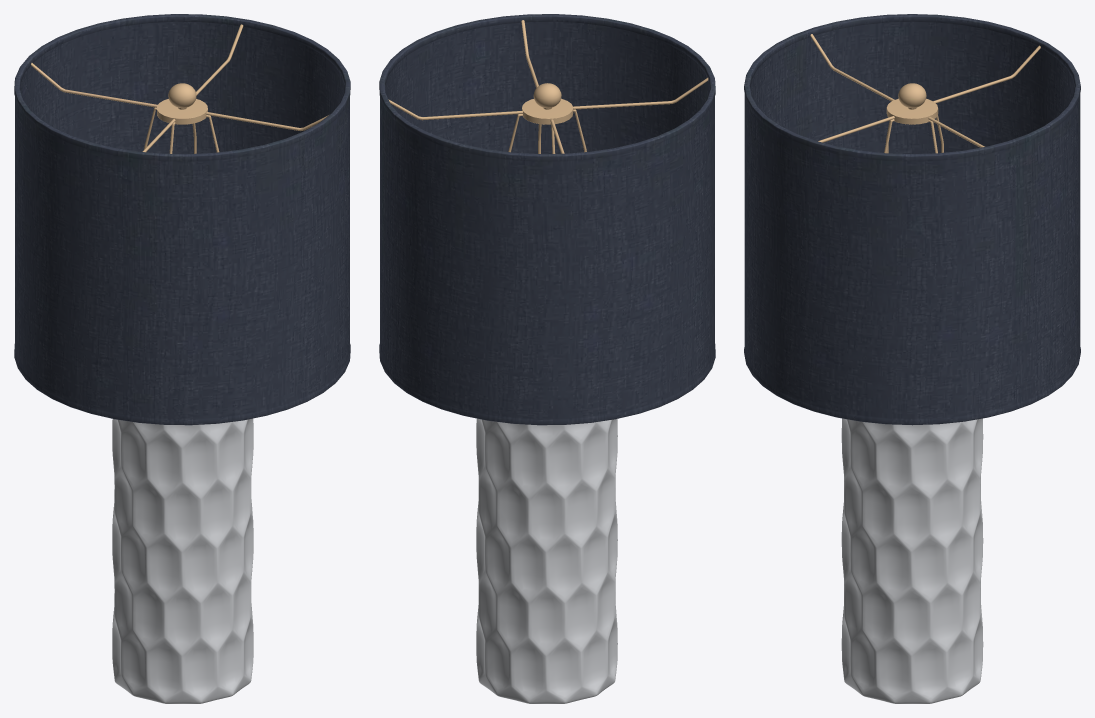
Rendered from abo-B07F9X919G.glb.
3 renders of one model, left to right at view 1: azimuth 30°, elevation 25°; view 2: azimuth 150°, elevation 25°; view 3: azimuth 270°, elevation 25°, orthographic.
Bounding box in the file's own units: 0.277 × 0.537 × 0.277.
Materials: 1 (1 with a texture image).
